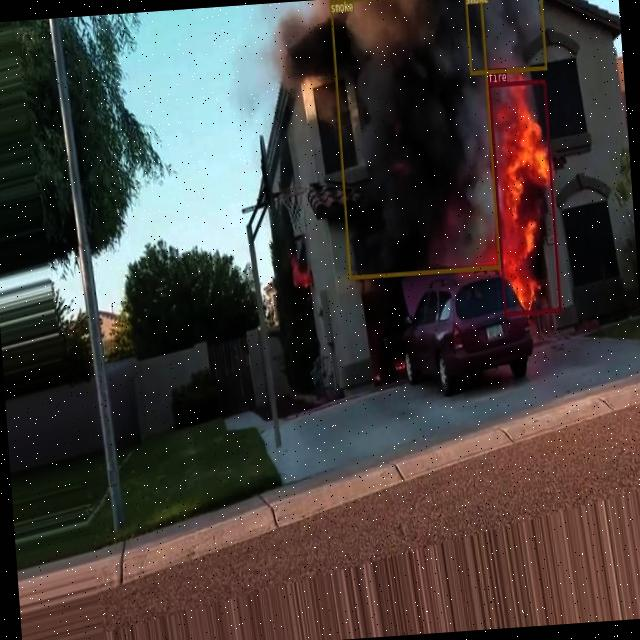fire: (488, 79, 560, 314)
smoke: (328, 0, 500, 278), (463, 0, 546, 73)
